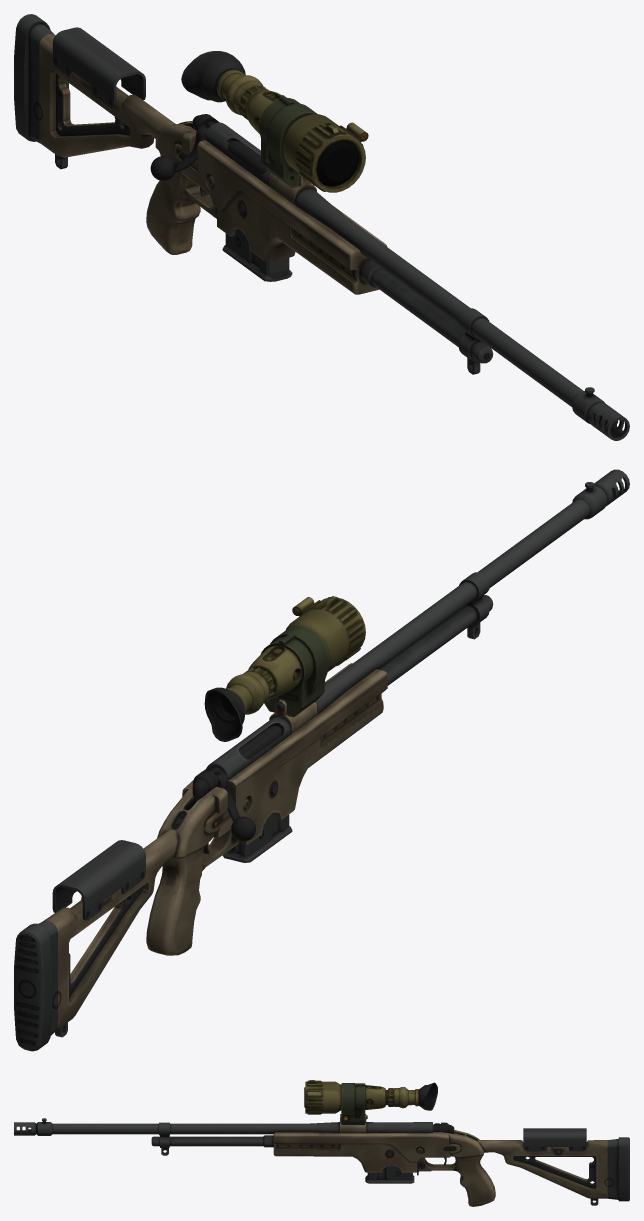
File: Sniper_Keskin.fbx
The picture shows the model from 3 angles, top to bottom: view 1: azimuth 30°, elevation 25°; view 2: azimuth 150°, elevation 25°; view 3: azimuth 270°, elevation 25°; orthographic projection. The views are drawn at different scales.
Visible parts, largest first — view 1: GunMesh; view 2: GunMesh; view 3: GunMesh.
Part boxes in pixels (bbox=[...]): GunMesh: bbox=[14, 14, 629, 440]; GunMesh: bbox=[14, 469, 629, 1051]; GunMesh: bbox=[14, 1080, 629, 1206].
Bounding box in the file's own units: 0.0968 × 0.2675 × 1.2.
Materials: 1 (1 with a texture image).
